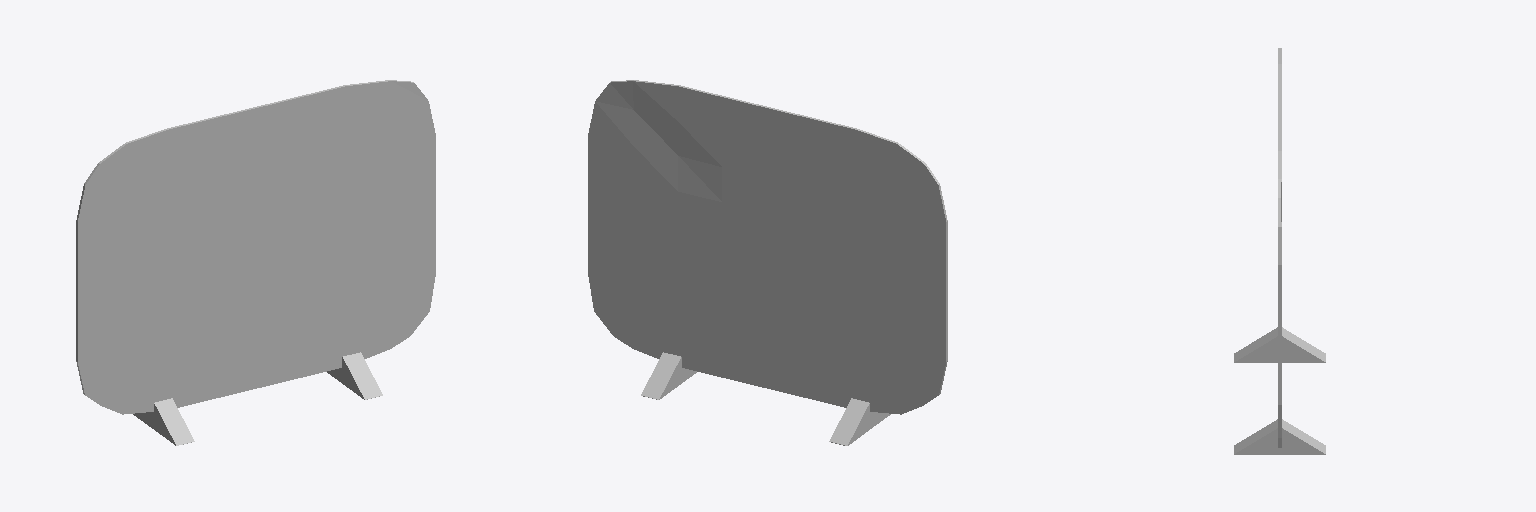
Rendered from Schot.obj.
3 views of the same model, side by side, from view 1: azimuth 30°, elevation 25°; view 2: azimuth 150°, elevation 25°; view 3: azimuth 270°, elevation 25° (orthographic).
Visible parts, largest first — view 1: Cube, Cube.002, Cube.001; view 2: Cube, Cube.002, Cube.001; view 3: Cube.001, Cube.002, Cube.
Boxes of the visible parts, x1=… form: Cube: x1=76, y1=80, x2=435, y2=414; Cube.002: x1=133, y1=398, x2=194, y2=445; Cube.001: x1=327, y1=352, x2=382, y2=399; Cube: x1=588, y1=80, x2=947, y2=414; Cube.002: x1=829, y1=398, x2=890, y2=445; Cube.001: x1=641, y1=352, x2=696, y2=399; Cube.001: x1=1234, y1=419, x2=1325, y2=454; Cube.002: x1=1234, y1=327, x2=1325, y2=362; Cube: x1=1278, y1=48, x2=1281, y2=447.
Size of the model in its own units: 1.34 by 1.06 by 0.3.